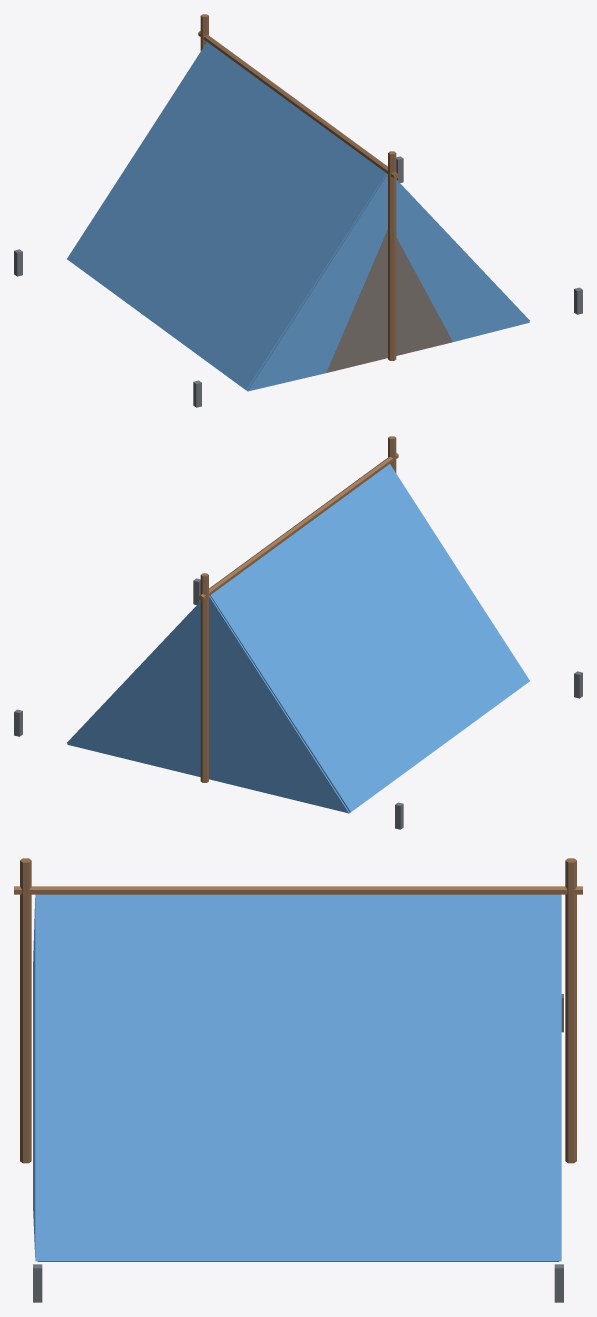
File: SM_Tent_Blue.fbx
The picture shows the model from 3 angles, top to bottom: view 1: azimuth 30°, elevation 25°; view 2: azimuth 150°, elevation 25°; view 3: azimuth 270°, elevation 25°; orthographic projection. The views are drawn at different scales.
Visible parts, largest first — view 1: SM_Tent_Blue; view 2: SM_Tent_Blue; view 3: SM_Tent_Blue.
Part boxes in pixels (x1,y1,x2,y2): SM_Tent_Blue: (14,14,582,407); SM_Tent_Blue: (14,436,582,829); SM_Tent_Blue: (14,858,582,1302).
Bounding box in the file's own units: 2.74 × 1.42 × 2.4.
